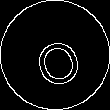O_N: (26, 23, 84, 87)
